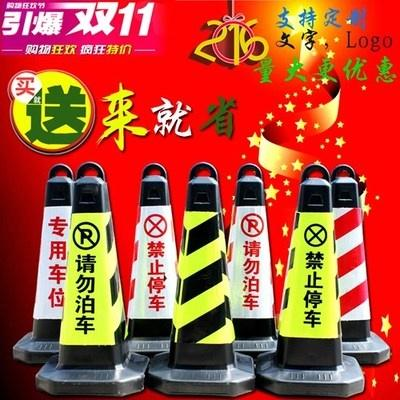cone_barrel: (45, 169, 141, 385), (158, 171, 244, 383), (267, 174, 351, 386), (18, 166, 79, 359), (324, 171, 383, 363), (123, 169, 182, 351), (224, 170, 278, 347)
